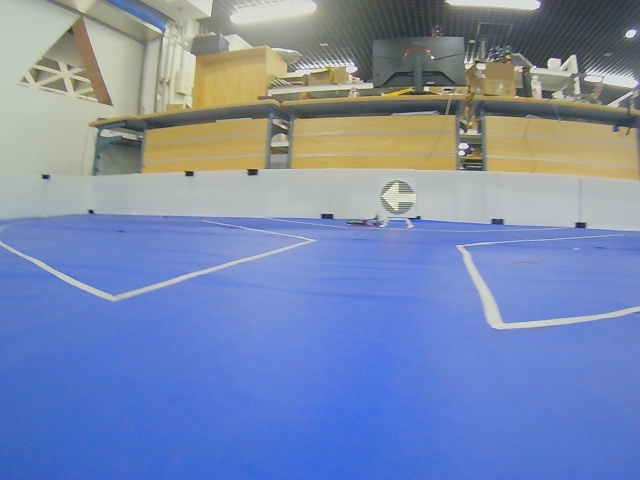left_yellow: (380, 180, 416, 215)
